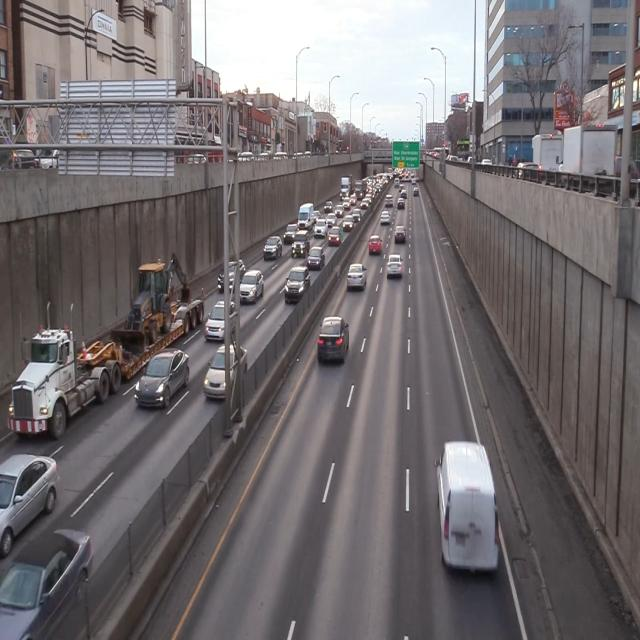Car: (10, 251, 204, 438), (438, 439, 497, 574), (135, 349, 192, 419), (203, 346, 249, 401), (317, 313, 350, 369), (204, 300, 240, 344), (285, 268, 308, 302), (240, 271, 263, 303), (348, 263, 367, 292), (386, 253, 404, 280), (291, 232, 309, 258), (264, 236, 281, 260), (308, 248, 325, 268), (368, 235, 382, 255), (394, 225, 406, 246), (380, 208, 390, 224)
